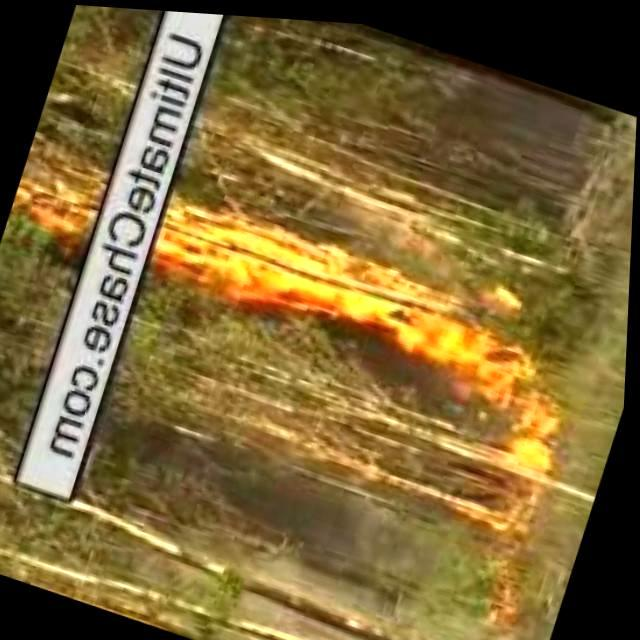fire: (152, 189, 500, 371), (454, 318, 598, 496), (11, 148, 111, 235)
